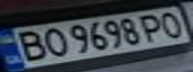6: (87, 19, 109, 51)
8: (118, 16, 145, 46)
9: (66, 21, 90, 54), (103, 17, 127, 50)
B: (6, 28, 51, 62)
O: (36, 25, 69, 57), (154, 9, 190, 38)
P: (136, 11, 169, 43)
